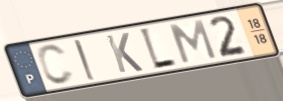2: (211, 14, 250, 61)
C: (35, 43, 77, 87)
I: (72, 38, 99, 83)
K: (103, 31, 146, 75)
L: (137, 26, 180, 72)
M: (167, 18, 219, 65)
